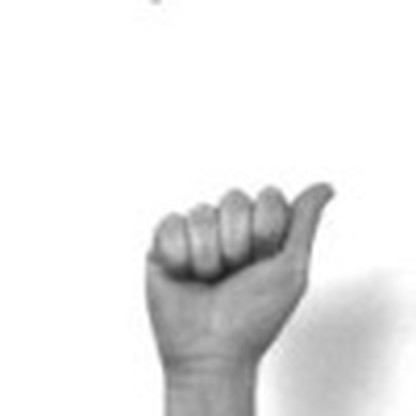a: (119, 158, 347, 416)
